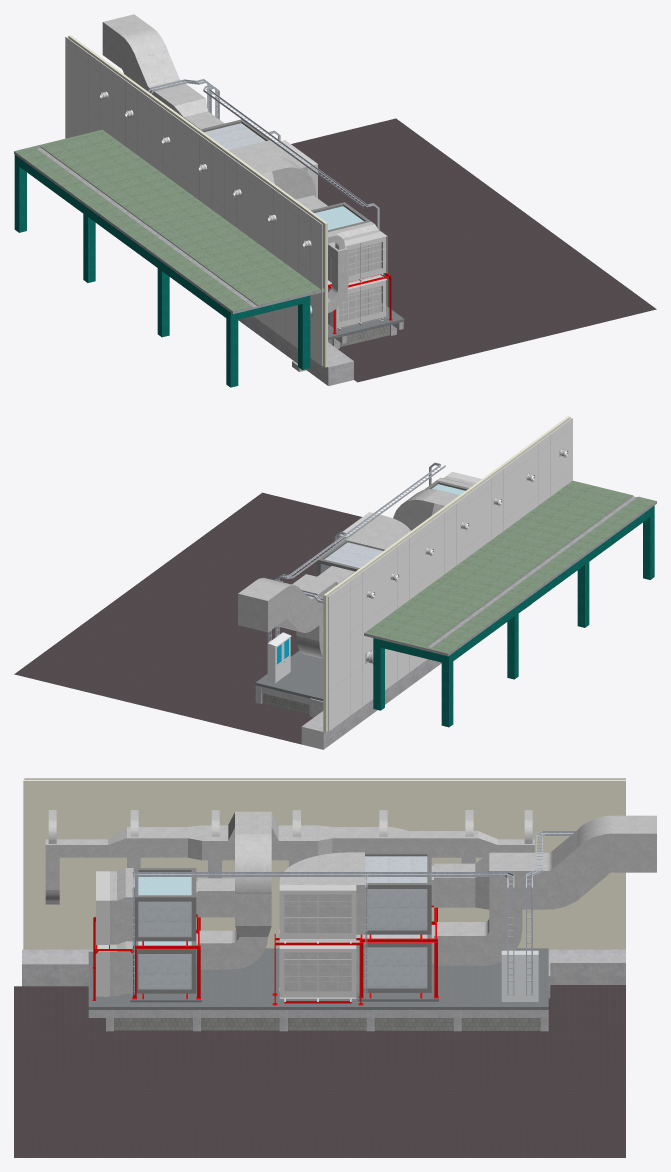
The model's file is notembok.glb.
3 views of the same model, one above another, from view 1: azimuth 30°, elevation 25°; view 2: azimuth 150°, elevation 25°; view 3: azimuth 270°, elevation 25° (orthographic). The views are drawn at different scales.
Parts seen in each view (by area): view 1: Geom3D (×14), Geom3D_ (×13); view 2: Geom3D (×13), Geom3D_ (×11); view 3: Geom3D (×14), Geom3D_ (×37).
Part boxes in pixels (<box>): Geom3D (×14): <box>14,35,656,387</box>; Geom3D_ (×13): <box>102,14,404,340</box>; Geom3D (×13): <box>14,416,656,749</box>; Geom3D_ (×11): <box>238,418,572,731</box>; Geom3D (×14): <box>14,779,625,1157</box>; Geom3D_ (×37): <box>24,778,656,1030</box>.
Size of the model in its own units: 24.5 by 9.74 by 27.74.
Materials: 23 (14 with a texture image).
